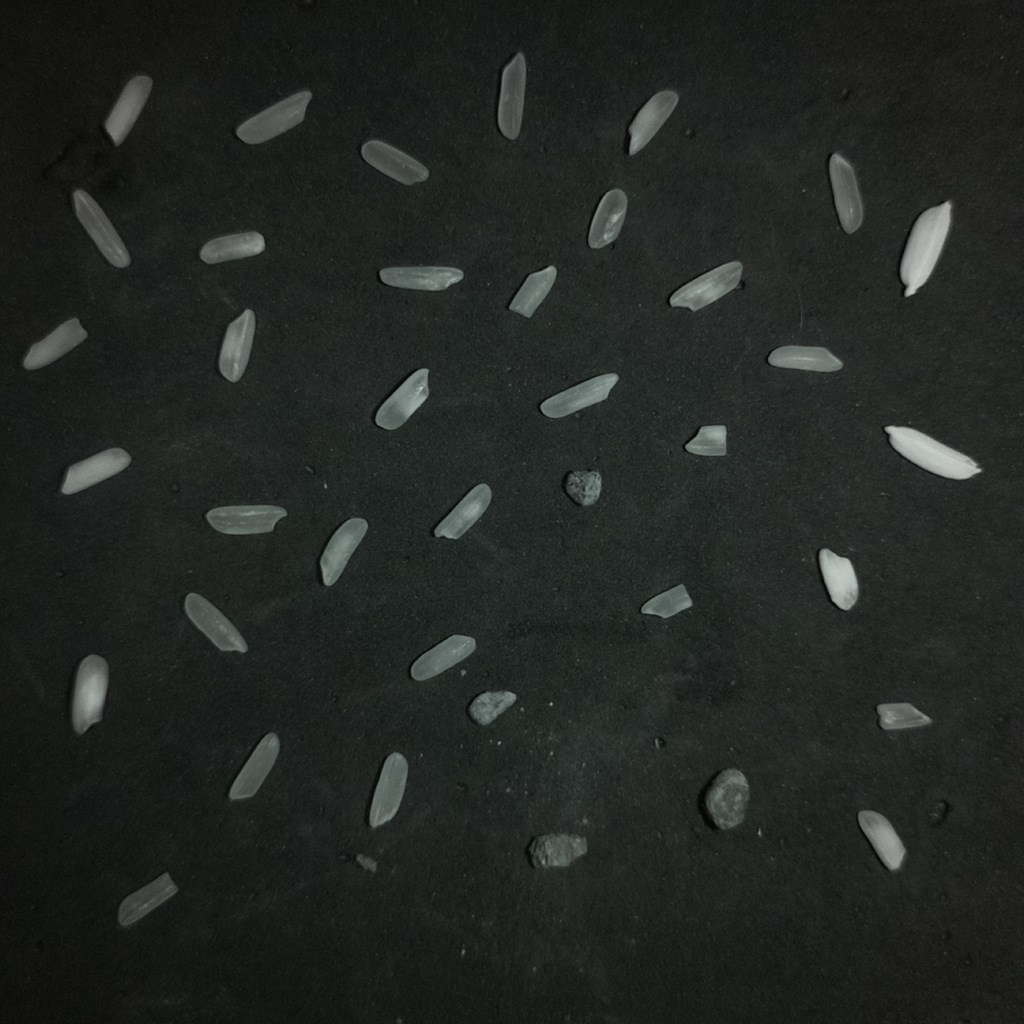broken: (640, 585, 692, 617)
chalky: (669, 261, 742, 310), (540, 373, 618, 417), (104, 75, 152, 145), (22, 318, 87, 369), (60, 447, 130, 494), (628, 90, 678, 155), (319, 517, 366, 586), (375, 368, 428, 429), (435, 483, 491, 539), (70, 655, 108, 734), (857, 811, 905, 870), (218, 309, 255, 382), (508, 265, 556, 317), (818, 548, 858, 610), (199, 231, 265, 264), (379, 266, 463, 291), (768, 346, 842, 372), (876, 702, 931, 730), (684, 425, 726, 456)
foreign: (884, 426, 980, 479), (900, 201, 950, 296), (704, 768, 749, 829), (529, 833, 587, 868), (468, 691, 517, 726), (563, 470, 603, 507)
whole: (73, 189, 130, 267), (236, 91, 311, 144), (184, 592, 247, 652), (229, 733, 279, 799), (118, 873, 177, 926), (361, 140, 428, 184), (410, 635, 475, 680), (368, 753, 407, 827), (828, 153, 862, 233), (497, 53, 526, 140), (206, 505, 286, 534), (588, 189, 627, 248)
